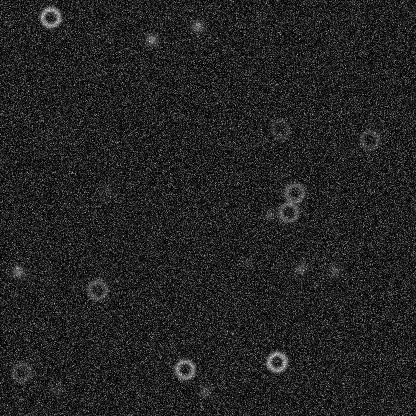Ring: (172, 357, 196, 381), (85, 278, 109, 302), (38, 5, 62, 29), (282, 180, 306, 204), (357, 127, 381, 151), (264, 349, 288, 373), (9, 360, 33, 384), (276, 200, 300, 224), (268, 116, 292, 140)
Spot: (98, 181, 114, 197), (326, 262, 342, 278), (189, 18, 205, 34), (196, 383, 212, 399), (292, 260, 308, 276), (9, 263, 25, 279), (49, 381, 65, 397), (143, 31, 159, 47), (239, 253, 255, 269), (261, 206, 277, 222)
